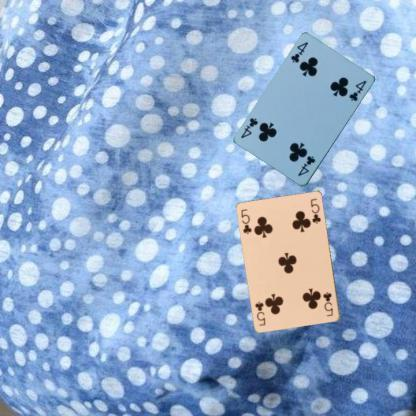4c: (288, 39, 310, 64), (295, 153, 317, 177)
5c: (320, 289, 335, 318), (239, 207, 253, 236)
